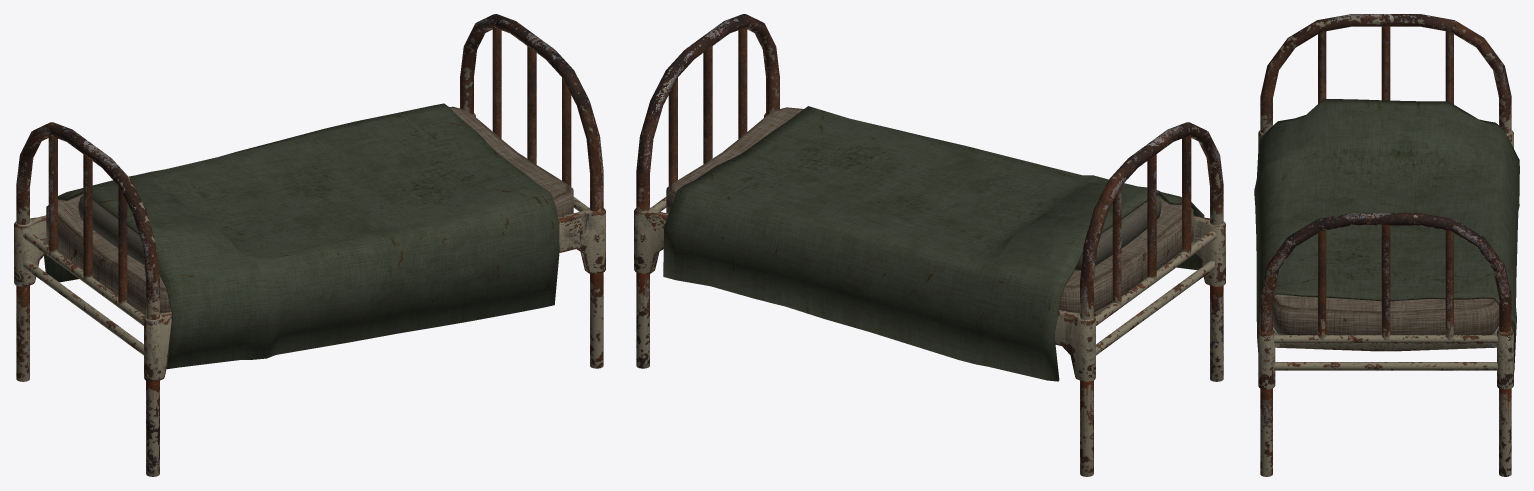
Rendered from rusty_bed.glb.
3 views of the same model, side by side, from view 1: azimuth 30°, elevation 25°; view 2: azimuth 150°, elevation 25°; view 3: azimuth 270°, elevation 25° (orthographic). The views are drawn at different scales.
Parts seen in each view (by area): view 1: adv_bed_wear_4, adv_bed_base_1, adv_bed_bags_2, adv_bed_mid_0; view 2: adv_bed_wear_4, adv_bed_base_1, adv_bed_bags_2, adv_bed_mid_0; view 3: adv_bed_wear_4, adv_bed_base_1, adv_bed_bags_2, adv_bed_mid_0.
Part boxes in pixels (x1,y1,x2,y2): adv_bed_wear_4: [44, 103, 559, 369]; adv_bed_base_1: [16, 14, 603, 476]; adv_bed_bags_2: [46, 106, 573, 314]; adv_bed_mid_0: [14, 113, 605, 381]; adv_bed_wear_4: [663, 106, 1204, 381]; adv_bed_base_1: [636, 14, 1223, 476]; adv_bed_bags_2: [666, 107, 1193, 313]; adv_bed_mid_0: [634, 113, 1225, 381]; adv_bed_wear_4: [1254, 98, 1519, 371]; adv_bed_base_1: [1260, 14, 1511, 476]; adv_bed_bags_2: [1273, 119, 1498, 334]; adv_bed_mid_0: [1258, 130, 1513, 389].
Bounding box in the file's own units: 24.77 × 14.6 × 13.49.
5 materials, 5 textured.
